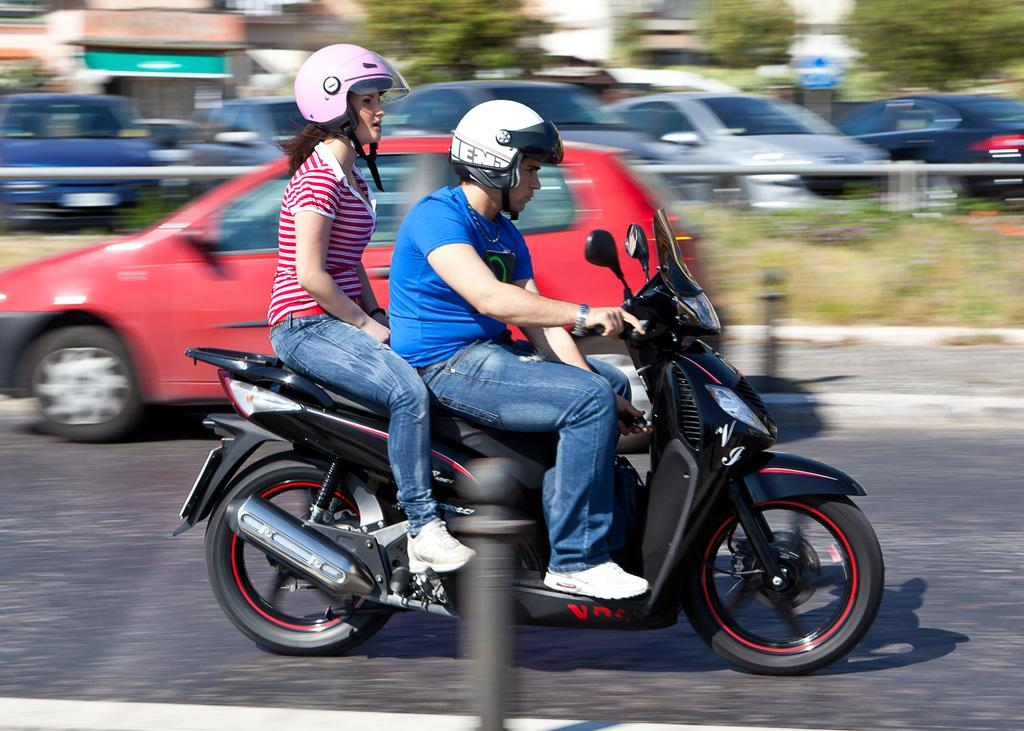helmet: (450, 99, 564, 210), (294, 43, 412, 140)
